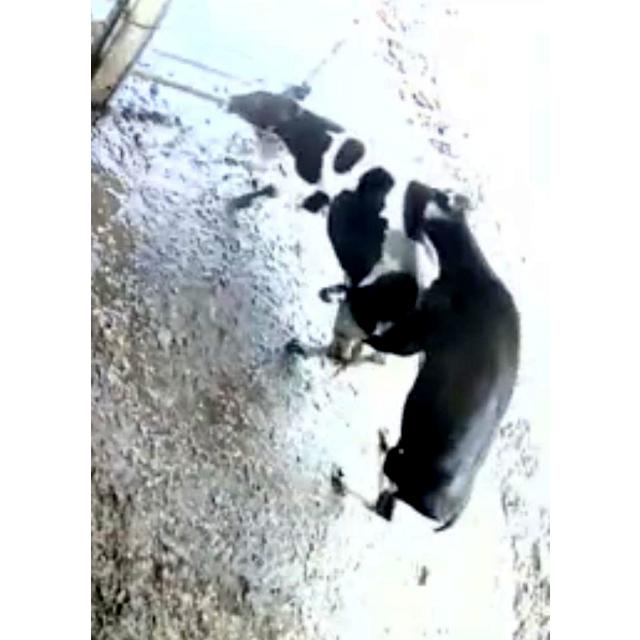ride: (333, 160, 537, 550)
